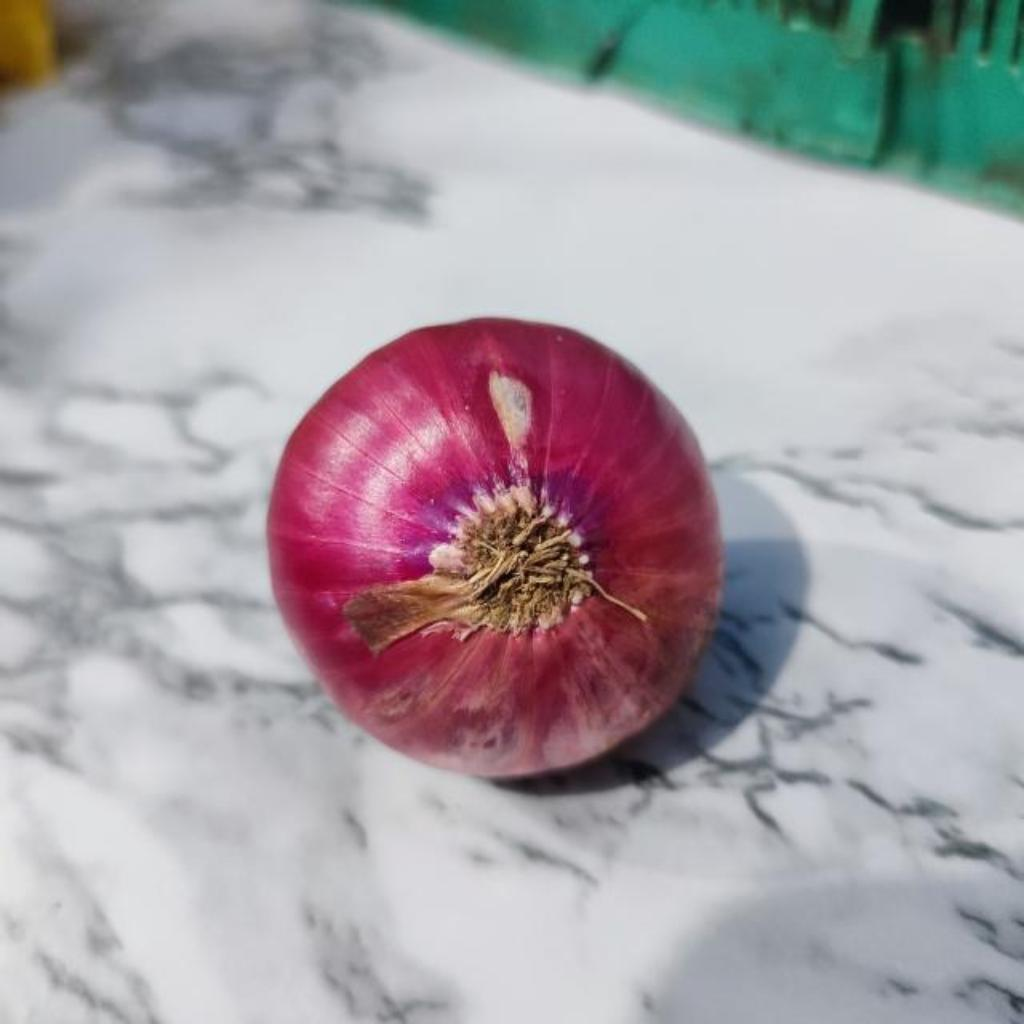Onion: (267, 318, 723, 779)
